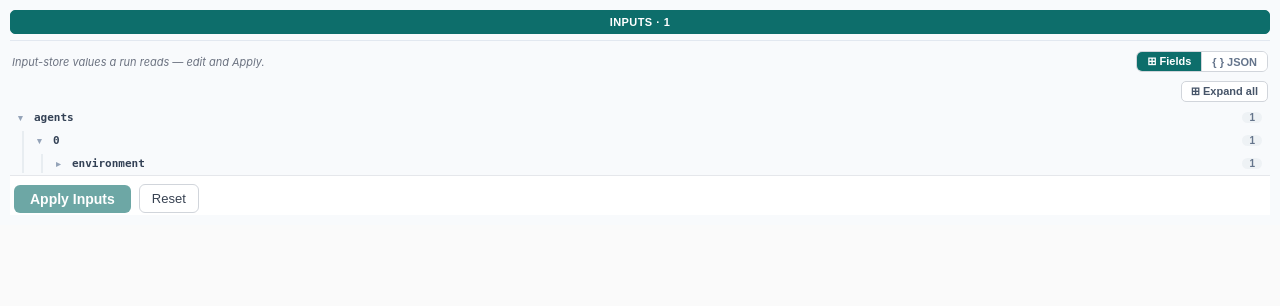
Test case: ConfigPanel — tabs + collapsible inputs › input-tree deep groups start collapsed; expand-all / collapse-all toggle them
Expected: the text "GLC" is not shown
Click the button "⊞ Expand all": (1224, 92) [1181,81,1268,102]
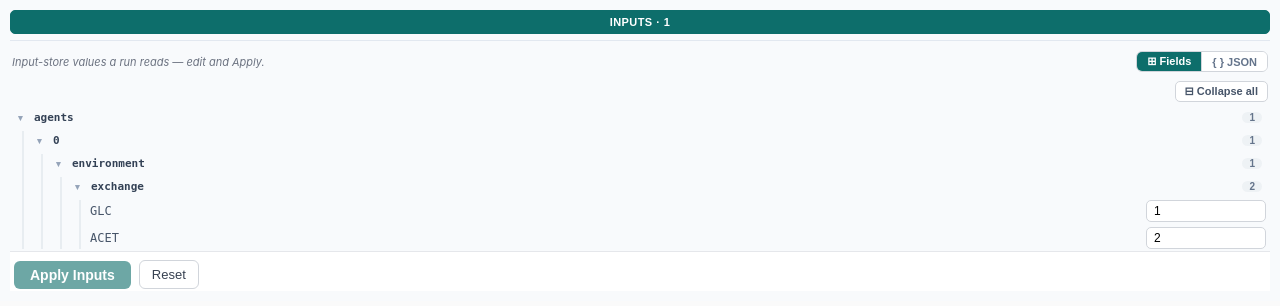
Now the text "GLC" is shown, box [90,204,112,218]
Click the button "⊟ Collapse all": (1221, 92) [1175,81,1268,102]
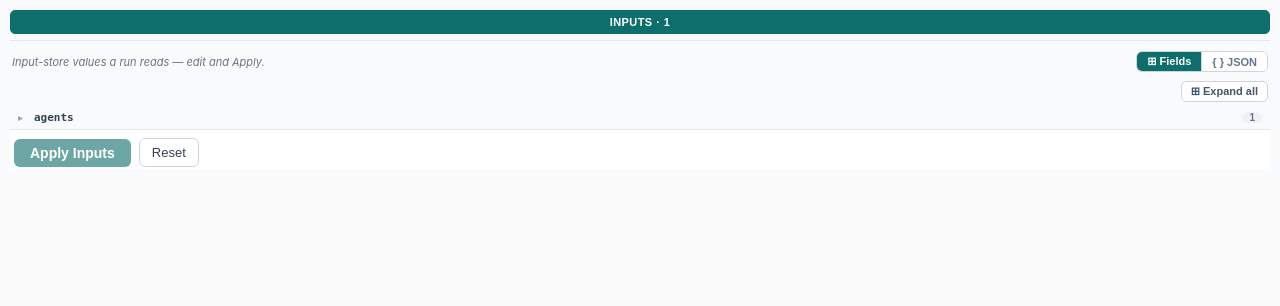
Now the text "GLC" is gone
